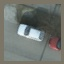car: (17, 22, 45, 42)
